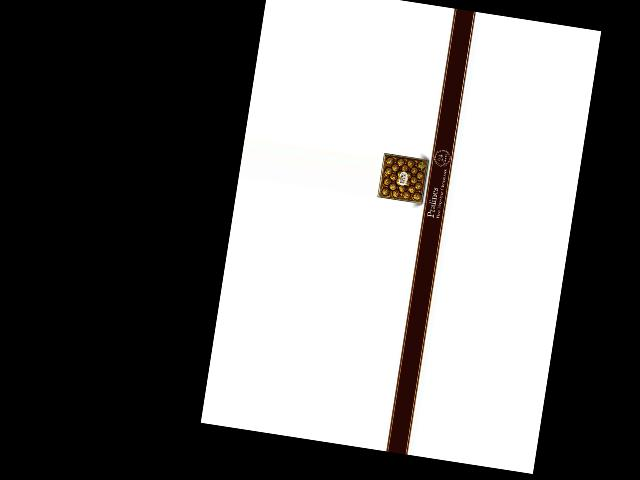chocolate: (374, 149, 431, 206)
